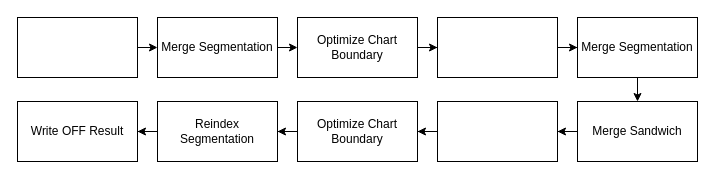
Some shapes in this 715 by 179 pixel diagram are drawn without their labels. The shapes that lost their labels are listed below. From the top down, each one's box as (x1, y1, x2, y2) in pixels, then its label:
(16, 16, 138, 78): Region Grow
(436, 16, 558, 78): Split Segmentation
(436, 100, 558, 162): Merge Belt
